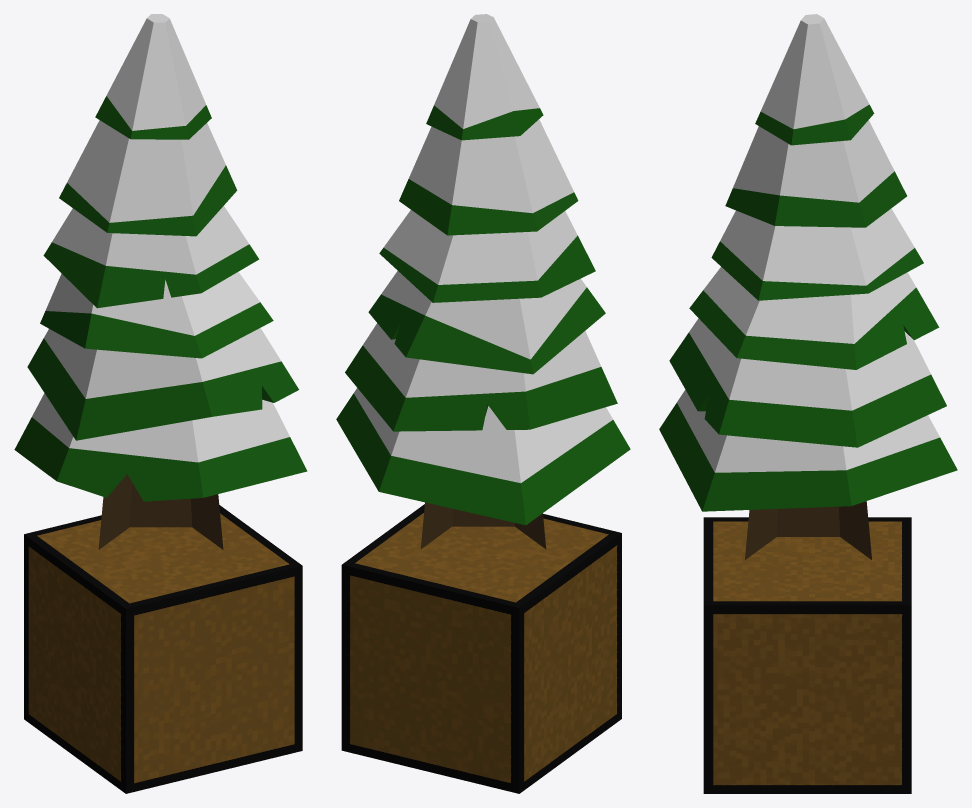
The model's file is PineTree1.glb.
3 views of the same model, side by side, from view 1: azimuth 30°, elevation 25°; view 2: azimuth 150°, elevation 25°; view 3: azimuth 270°, elevation 25° (orthographic).
Parts seen in each view (by area): view 1: Pine, DirtBaked; view 2: Pine, DirtBaked; view 3: Pine, DirtBaked.
Part boxes in pixels (x1,y1,x2,y2): Pine: [14, 14, 307, 549]; DirtBaked: [24, 505, 302, 793]; Pine: [336, 14, 630, 549]; DirtBaked: [341, 504, 621, 793]; Pine: [659, 14, 957, 559]; DirtBaked: [703, 517, 911, 793].
Bounding box in the file's own units: 1.39 × 3.79 × 1.41.
Materials: 4 (1 with a texture image).
